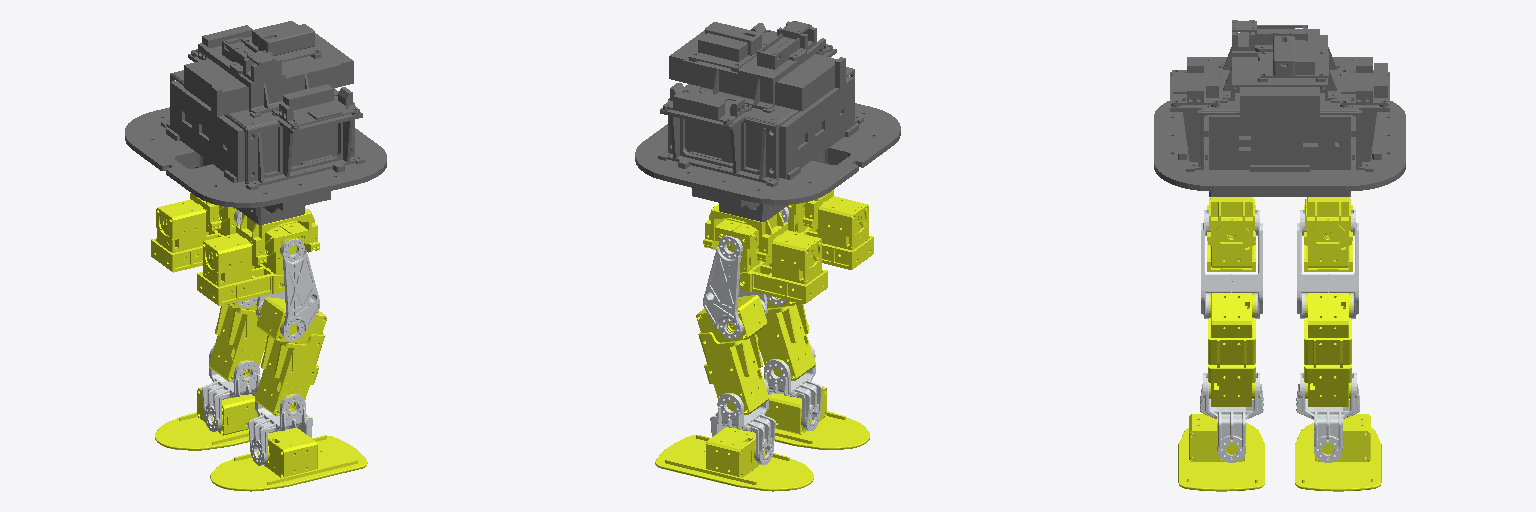
URDF robot description (exhx5_w_b_16):
<?xml version="1.0" encoding="utf-8"?>
<!-- This URDF was automatically created by SolidWorks to URDF Exporter! Originally created by [author] ([email redacted]) 
     Commit Version: 1.5.1-0-g916b5db  Build Version: 1.5.7152.31018
     For more information, please see http://wiki.ros.org/sw_urdf_exporter -->
<robot
  name="exhx5_w_b_16">
  <link
    name="body_link">
    <inertial>
      <origin
        xyz="0.00043545 0.00025536 0.10071"
        rpy="0 0 0" />
      <mass
        value="1.8238" />
      <inertia
        ixx="0.0025905"
        ixy="-5.6852E-06"
        ixz="-1.3106E-05"
        iyy="0.0024595"
        iyz="-1.261E-06"
        izz="0.0046407" />
    </inertial>
    <visual>
      <origin
        xyz="0 0 0"
        rpy="0 0 0" />
      <geometry>
        <mesh
          filename="../meshes/body_link.STL" />
      </geometry>
      <material
        name="">
        <color
          rgba="0.49804 0.49804 0.49804 1" />
      </material>
    </visual>
    <collision>
      <origin
        xyz="0 0 0"
        rpy="0 0 0" />
      <geometry>
        <mesh
          filename="../meshes/body_link.STL" />
      </geometry>
    </collision>
  </link>

  <link
    name="imu_link">
    <inertial>
      <origin
        xyz="-0.008387 1.336E-17 -0.0069463"
        rpy="0 0 0" />
      <mass
        value="0.0062931" />
      <inertia
        ixx="3.2242E-07"
        ixy="3.3527E-22"
        ixz="-6.9193E-08"
        iyy="9.2229E-07"
        iyz="-8.0392E-22"
        izz="1.1018E-06" />
    </inertial>
    <visual>
      <origin
        xyz="0 0 0"
        rpy="0 0 0" />
      <geometry>
        <mesh
          filename="../meshes/imu_link.STL" />
      </geometry>
      <material
        name="">
        <color
          rgba="0.79216 0.81961 0.93333 1" />
      </material>
    </visual>
    <collision>
      <origin
        xyz="0 0 0"
        rpy="0 0 0" />
      <geometry>
        <mesh
          filename="../meshes/imu_link.STL" />
      </geometry>
    </collision>
  </link>
  <joint
    name="imu"
    type="fixed">
    <origin
      xyz="0 0 0.0492"
      rpy="0 0 0" />
    <parent
      link="body_link" />
    <child
      link="imu_link" />
    <axis
      xyz="0 0 0" />
    <limit
      lower="-3.14"
      upper="3.14"
      effort="4"
      velocity="4" />
  </joint>
  <link
    name="l_hip_g_link">
    <inertial>
      <origin
        xyz="-0.0043797 -8.6604E-08 0.011813"
        rpy="0 0 0" />
      <mass
        value="0.061008" />
      <inertia
        ixx="1.167E-05"
        ixy="7.1767E-11"
        ixz="9.1442E-09"
        iyy="2.2342E-05"
        iyz="2.5177E-11"
        izz="2.4892E-05" />
    </inertial>
    <visual>
      <origin
        xyz="0 0 0"
        rpy="0 0 0" />
      <geometry>
        <mesh
          filename="../meshes/l_hip_g_link.STL" />
      </geometry>
      <material
        name="">
        <color
          rgba="0.9451 1 0.18431 1" />
      </material>
    </visual>
    <collision>
      <origin
        xyz="0 0 0"
        rpy="0 0 0" />
      <geometry>
        <mesh
          filename="../meshes/l_hip_g_link.STL" />
      </geometry>
    </collision>
  </link>
  <joint
    name="l_hip_g"
    type="fixed">
    <origin
      xyz="-.003 0.04 0"
      rpy="0 0 0" />
    <parent
      link="body_link" />
    <child
      link="l_hip_g_link" />
    <axis
      xyz="0 0 0" />
  </joint>
  <link
    name="l_hip_roll_link">
    <inertial>
      <origin
        xyz="0.013831 0.00033457 0.025453"
        rpy="0 0 0" />
      <mass
        value="0.2969" />
      <inertia
        ixx="7.8136E-05"
        ixy="7.265E-07"
        ixz="-6.9809E-08"
        iyy="9.2183E-05"
        iyz="-5.6881E-11"
        izz="7.1034E-05" />
    </inertial>
    <visual>
      <origin
        xyz="0 0 0"
        rpy="0 0 0" />
      <geometry>
        <mesh
          filename="../meshes/l_hip_roll_link.STL" />
      </geometry>
      <material
        name="">
        <color
          rgba="0.9451 1 0.18431 1" />
      </material>
    </visual>
    <collision>
      <origin
        xyz="0 0 0"
        rpy="0 0 0" />
      <geometry>
        <mesh
          filename="../meshes/l_hip_roll_link.STL" />
      </geometry>
    </collision>
  </link>
  <joint
    name="l_hip_roll"
    type="revolute">
    <origin
      xyz="0 0 0"
      rpy="3.1416 1.5708 0" />
    <parent
      link="l_hip_g_link" />
    <child
      link="l_hip_roll_link" />
    <axis
      xyz="0 0 1" />
    <limit
      lower="-3.14"
      upper="3.14"
      effort="4"
      velocity="4" />
  </joint>
  <link
    name="l_hip_pitch_link">
    <inertial>
      <origin
        xyz="0.041225 -0.007321 -5.0713E-08"
        rpy="0 0 0" />
      <mass
        value="0.051592" />
      <inertia
        ixx="2.7959E-05"
        ixy="2.0752E-06"
        ixz="-8.0934E-11"
        iyy="4.8156E-05"
        iyz="3.6317E-11"
        izz="2.9604E-05" />
    </inertial>
    <visual>
      <origin
        xyz="0 0 0"
        rpy="0 0 0" />
      <geometry>
        <mesh
          filename="../meshes/l_hip_pitch_link.STL" />
      </geometry>
      <material
        name="">
        <color
          rgba="0.89804 0.91765 0.92941 1" />
      </material>
    </visual>
    <collision>
      <origin
        xyz="0 0 0"
        rpy="0 0 0" />
      <geometry>
        <mesh
          filename="../meshes/l_hip_pitch_link.STL" />
      </geometry>
    </collision>
  </link>
  <joint
    name="l_hip_pitch"
    type="revolute">
    <origin
      xyz="0 0 0"
      rpy="1.5708 0 0" />
    <parent
      link="l_hip_roll_link" />
    <child
      link="l_hip_pitch_link" />
    <axis
      xyz="0 0 1" />
    <limit
      lower="-3.14"
      upper="3.14"
      effort="4"
      velocity="4" />
  </joint>
  <link
    name="l_knee_link">
    <inertial>
      <origin
        xyz="0.033756 -0.0084189 -6.6115E-09"
        rpy="0 0 0" />
      <mass
        value="0.28878" />
      <inertia
        ixx="6.6724E-05"
        ixy="7.5004E-07"
        ixz="-8.4578E-07"
        iyy="6.5699E-05"
        iyz="4.1085E-07"
        izz="7.0381E-05" />
    </inertial>
    <visual>
      <origin
        xyz="0 0 0"
        rpy="0 0 0" />
      <geometry>
        <mesh
          filename="../meshes/l_knee_link.STL" />
      </geometry>
      <material
        name="">
        <color
          rgba="0.9451 1 0.18431 1" />
      </material>
    </visual>
    <collision>
      <origin
        xyz="0 0 0"
        rpy="0 0 0" />
      <geometry>
        <mesh
          filename="../meshes/l_knee_link.STL" />
      </geometry>
    </collision>
  </link>
  <joint
    name="l_knee"
    type="revolute">
    <origin
      xyz="0.075954 0 0"
      rpy="0 0 0" />
    <parent
      link="l_hip_pitch_link" />
    <child
      link="l_knee_link" />
    <axis
      xyz="0 0 1" />
    <limit
      lower="-3.14"
      upper="3.14"
      effort="4"
      velocity="4" />
  </joint>
  <link
    name="l_ank_pitch_link">
    <inertial>
      <origin
        xyz="0.022786 -7.3909E-09 -7.1981E-06"
        rpy="0 0 0" />
      <mass
        value="0.044772" />
      <inertia
        ixx="1.777E-05"
        ixy="8.555E-14"
        ixz="-3.3713E-09"
        iyy="1.7119E-05"
        iyz="1.7593E-11"
        izz="1.8661E-05" />
    </inertial>
    <visual>
      <origin
        xyz="0 0 0"
        rpy="0 0 0" />
      <geometry>
        <mesh
          filename="../meshes/l_ank_pitch_link.STL" />
      </geometry>
      <material
        name="">
        <color
          rgba="0.89804 0.91765 0.92941 1" />
      </material>
    </visual>
    <collision>
      <origin
        xyz="0 0 0"
        rpy="0 0 0" />
      <geometry>
        <mesh
          filename="../meshes/l_ank_pitch_link.STL" />
      </geometry>
    </collision>
  </link>
  <joint
    name="l_ank_pitch"
    type="revolute">
    <origin
      xyz="0.074602 0 0"
      rpy="3.1416 0 0" />
    <parent
      link="l_knee_link" />
    <child
      link="l_ank_pitch_link" />
    <axis
      xyz="0 0 1" />
    <limit
      lower="-3.14"
      upper="3.14"
      effort="4"
      velocity="4" />
  </joint>
  <link
    name="l_ank_roll_link">
    <inertial>
      <origin
        xyz="0.0047069 0.010728 0.0015299"
        rpy="0 0 0" />
      <mass
        value="0.16774" />
      <inertia
        ixx="0.00012039"
        ixy="-3.7428E-09"
        ixz="4.4069E-08"
        iyy="8.7735E-05"
        iyz="7.0469E-07"
        izz="4.7866E-05" />
    </inertial>
    <visual>
      <origin
        xyz="0 0 0"
        rpy="0 0 0" />
      <geometry>
        <mesh
          filename="../meshes/l_ank_roll_link.STL" />
      </geometry>
      <material
        name="">
        <color
          rgba="0.9451 1 0.18431 1" />
      </material>
    </visual>
    <collision>
      <origin
        xyz="0 0 0"
        rpy="0 0 0" />
      <geometry>
        <mesh
          filename="../meshes/l_ank_roll_link.STL" />
      </geometry>
    </collision>
  </link>
  <joint
    name="l_ank_roll"
    type="revolute">
    <origin
      xyz="0.0465 0 0"
      rpy="-1.5708 0 0" />
    <parent
      link="l_ank_pitch_link" />
    <child
      link="l_ank_roll_link" />
    <axis
      xyz="0 0 1" />
    <limit
      lower="-3.14"
      upper="3.14"
      effort="4"
      velocity="4" />
  </joint>
  <link
    name="r_hip_g_link">
    <inertial>
      <origin
        xyz="-0.0043797 -8.6604E-08 0.011813"
        rpy="0 0 0" />
      <mass
        value="0.061008" />
      <inertia
        ixx="1.167E-05"
        ixy="7.1767E-11"
        ixz="9.1442E-09"
        iyy="2.2342E-05"
        iyz="2.5177E-11"
        izz="2.4892E-05" />
    </inertial>
    <visual>
      <origin
        xyz="0 0 0"
        rpy="0 0 0" />
      <geometry>
        <mesh
          filename="../meshes/r_hip_g_link.STL" />
      </geometry>
      <material
        name="">
        <color
          rgba="0.9451 1 0.18431 1" />
      </material>
    </visual>
    <collision>
      <origin
        xyz="0 0 0"
        rpy="0 0 0" />
      <geometry>
        <mesh
          filename="../meshes/r_hip_g_link.STL" />
      </geometry>
    </collision>
  </link>
  <joint
    name="r_hip_g"
    type="fixed">
    <origin
      xyz="-.003 -.04 0"
      rpy="0 0 0" />
    <parent
      link="body_link" />
    <child
      link="r_hip_g_link" />
    <axis
      xyz="0 0 0" />
  </joint>
  <link
    name="r_hip_roll_link">
    <inertial>
      <origin
        xyz="0.013831 0.00033457 0.025453"
        rpy="0 0 0" />
      <mass
        value="0.2969" />
      <inertia
        ixx="7.8136E-05"
        ixy="7.265E-07"
        ixz="-6.9809E-08"
        iyy="9.2183E-05"
        iyz="-5.6881E-11"
        izz="7.1034E-05" />
    </inertial>
    <visual>
      <origin
        xyz="0 0 0"
        rpy="0 0 0" />
      <geometry>
        <mesh
          filename="../meshes/r_hip_roll_link.STL" />
      </geometry>
      <material
        name="">
        <color
          rgba="0.9451 1 0.18431 1" />
      </material>
    </visual>
    <collision>
      <origin
        xyz="0 0 0"
        rpy="0 0 0" />
      <geometry>
        <mesh
          filename="../meshes/r_hip_roll_link.STL" />
      </geometry>
    </collision>
  </link>
  <joint
    name="r_hip_roll"
    type="revolute">
    <origin
      xyz="0 0 0"
      rpy="3.1416 1.5708 0" />
    <parent
      link="r_hip_g_link" />
    <child
      link="r_hip_roll_link" />
    <axis
      xyz="0 0 1" />
    <limit
      lower="-3.14"
      upper="3.14"
      effort="4"
      velocity="4" />
  </joint>
  <link
    name="r_hip_pitch_link">
    <inertial>
      <origin
        xyz="0.041225 0.007321 5.0713E-08"
        rpy="0 0 0" />
      <mass
        value="0.051592" />
      <inertia
        ixx="2.7959E-05"
        ixy="-2.0752E-06"
        ixz="8.0934E-11"
        iyy="4.8156E-05"
        iyz="3.6317E-11"
        izz="2.9604E-05" />
    </inertial>
    <visual>
      <origin
        xyz="0 0 0"
        rpy="0 0 0" />
      <geometry>
        <mesh
          filename="../meshes/r_hip_pitch_link.STL" />
      </geometry>
      <material
        name="">
        <color
          rgba="0.89804 0.91765 0.92941 1" />
      </material>
    </visual>
    <collision>
      <origin
        xyz="0 0 0"
        rpy="0 0 0" />
      <geometry>
        <mesh
          filename="../meshes/r_hip_pitch_link.STL" />
      </geometry>
    </collision>
  </link>
  <joint
    name="r_hip_pitch"
    type="revolute">
    <origin
      xyz="0 0 0"
      rpy="-1.5708 0 0" />
    <parent
      link="r_hip_roll_link" />
    <child
      link="r_hip_pitch_link" />
    <axis
      xyz="0 0 1" />
    <limit
      lower="-3.14"
      upper="3.14"
      effort="4"
      velocity="4" />
  </joint>
  <link
    name="r_knee_link">
    <inertial>
      <origin
        xyz="0.033757 0.0084176 6.6115E-09"
        rpy="0 0 0" />
      <mass
        value="0.28878" />
      <inertia
        ixx="6.6724E-05"
        ixy="-7.5008E-07"
        ixz="8.458E-07"
        iyy="6.5699E-05"
        iyz="4.1081E-07"
        izz="7.0381E-05" />
    </inertial>
    <visual>
      <origin
        xyz="0 0 0"
        rpy="0 0 0" />
      <geometry>
        <mesh
          filename="../meshes/r_knee_link.STL" />
      </geometry>
      <material
        name="">
        <color
          rgba="0.9451 1 0.18431 1" />
      </material>
    </visual>
    <collision>
      <origin
        xyz="0 0 0"
        rpy="0 0 0" />
      <geometry>
        <mesh
          filename="../meshes/r_knee_link.STL" />
      </geometry>
    </collision>
  </link>
  <joint
    name="r_knee"
    type="revolute">
    <origin
      xyz="0.075954 0 0"
      rpy="0 0 0" />
    <parent
      link="r_hip_pitch_link" />
    <child
      link="r_knee_link" />
    <axis
      xyz="0 0 1" />
    <limit
      lower="-3.14"
      upper="3.14"
      effort="4"
      velocity="4" />
  </joint>
  <link
    name="r_ank_pitch_link">
    <inertial>
      <origin
        xyz="0.025786 -7.3887E-09 -7.1981E-06"
        rpy="0 0 0" />
      <mass
        value="0.044772" />
      <inertia
        ixx="1.777E-05"
        ixy="8.5434E-14"
        ixz="-3.3713E-09"
        iyy="1.7119E-05"
        iyz="1.7592E-11"
        izz="1.8661E-05" />
    </inertial>
    <visual>
      <origin
        xyz="0 0 0"
        rpy="0 0 0" />
      <geometry>
        <mesh
          filename="../meshes/r_ank_pitch_link.STL" />
      </geometry>
      <material
        name="">
        <color
          rgba="0.89804 0.91765 0.92941 1" />
      </material>
    </visual>
    <collision>
      <origin
        xyz="0 0 0"
        rpy="0 0 0" />
      <geometry>
        <mesh
          filename="../meshes/r_ank_pitch_link.STL" />
      </geometry>
    </collision>
  </link>
  <joint
    name="r_ank_pitch"
    type="revolute">
    <origin
      xyz="0.071602 0 0"
      rpy="3.1416 0 0" />
    <parent
      link="r_knee_link" />
    <child
      link="r_ank_pitch_link" />
    <axis
      xyz="0 0 1" />
    <limit
      lower="-3.14"
      upper="3.14"
      effort="4"
      velocity="4" />
  </joint>
  <link
    name="r_ank_roll_link">
    <inertial>
      <origin
        xyz="0.0077069 -0.010728 0.0015299"
        rpy="0 0 0" />
      <mass
        value="0.16774" />
      <inertia
        ixx="0.00012039"
        ixy="3.743E-09"
        ixz="4.407E-08"
        iyy="8.7735E-05"
        iyz="-7.0467E-07"
        izz="4.7866E-05" />
    </inertial>
    <visual>
      <origin
        xyz="0 0 0"
        rpy="0 0 0" />
      <geometry>
        <mesh
          filename="../meshes/r_ank_roll_link.STL" />
      </geometry>
      <material
        name="">
        <color
          rgba="0.9451 1 0.18431 1" />
      </material>
    </visual>
    <collision>
      <origin
        xyz="0 0 0"
        rpy="0 0 0" />
      <geometry>
        <mesh
          filename="../meshes/r_ank_roll_link.STL" />
      </geometry>
    </collision>
  </link>
  <joint
    name="r_ank_roll"
    type="revolute">
    <origin
      xyz="0.0465 0 0"
      rpy="1.5708 0 0" />
    <parent
      link="r_ank_pitch_link" />
    <child
      link="r_ank_roll_link" />
    <axis
      xyz="0 0 1" />
    <limit
      lower="-3.14"
      upper="3.14"
      effort="4"
      velocity="4" />
  </joint>
  <transmission name="r_hip_roll_tran">
    <type>transmission_interface/SimpleTransmission</type>
    <joint name="r_hip_roll">
      <hardwareInterface>hardware_interface/EffortJointInterface</hardwareInterface>
    </joint>
    <actuator name="r_hip_roll_motor">
      <hardwareInterface>hardware_interface/EffortJointInterface</hardwareInterface>
      <mechanicalReduction>1</mechanicalReduction>
    </actuator>
  </transmission>
  <transmission name="r_hip_pitch_tran">
    <type>transmission_interface/SimpleTransmission</type>
    <joint name="r_hip_pitch">
      <hardwareInterface>hardware_interface/EffortJointInterface</hardwareInterface>
    </joint>
    <actuator name="r_hip_pitch_motor">
      <hardwareInterface>hardware_interface/EffortJointInterface</hardwareInterface>
      <mechanicalReduction>1</mechanicalReduction>
    </actuator>
  </transmission>
  <transmission name="r_knee_tran">
    <type>transmission_interface/SimpleTransmission</type>
    <joint name="r_knee">
      <hardwareInterface>hardware_interface/EffortJointInterface</hardwareInterface>
    </joint>
    <actuator name="r_knee_motor">
      <hardwareInterface>hardware_interface/EffortJointInterface</hardwareInterface>
      <mechanicalReduction>1</mechanicalReduction>
    </actuator>
  </transmission>
  <transmission name="r_ank_pitch_tran">
    <type>transmission_interface/SimpleTransmission</type>
    <joint name="r_ank_pitch">
      <hardwareInterface>hardware_interface/EffortJointInterface</hardwareInterface>
    </joint>
    <actuator name="r_ank_pitch_motor">
      <hardwareInterface>hardware_interface/EffortJointInterface</hardwareInterface>
      <mechanicalReduction>1</mechanicalReduction>
    </actuator>
  </transmission>
  <transmission name="r_ank_roll_tran">
    <type>transmission_interface/SimpleTransmission</type>
    <joint name="r_ank_roll">
      <hardwareInterface>hardware_interface/EffortJointInterface</hardwareInterface>
    </joint>
    <actuator name="r_ank_roll_motor">
      <hardwareInterface>hardware_interface/EffortJointInterface</hardwareInterface>
      <mechanicalReduction>1</mechanicalReduction>
    </actuator>
  </transmission>
  <transmission name="l_hip_roll_tran">
    <type>transmission_interface/SimpleTransmission</type>
    <joint name="l_hip_roll">
      <hardwareInterface>hardware_interface/EffortJointInterface</hardwareInterface>
    </joint>
    <actuator name="l_hip_roll_motor">
      <hardwareInterface>hardware_interface/EffortJointInterface</hardwareInterface>
      <mechanicalReduction>1</mechanicalReduction>
    </actuator>
  </transmission>
  <transmission name="l_hip_pitch_tran">
    <type>transmission_interface/SimpleTransmission</type>
    <joint name="l_hip_pitch">
      <hardwareInterface>hardware_interface/EffortJointInterface</hardwareInterface>
    </joint>
    <actuator name="l_hip_pitch_motor">
      <hardwareInterface>hardware_interface/EffortJointInterface</hardwareInterface>
      <mechanicalReduction>1</mechanicalReduction>
    </actuator>
  </transmission>
  <transmission name="l_knee_tran">
    <type>transmission_interface/SimpleTransmission</type>
    <joint name="l_knee">
      <hardwareInterface>hardware_interface/EffortJointInterface</hardwareInterface>
    </joint>
    <actuator name="l_knee_motor">
      <hardwareInterface>hardware_interface/EffortJointInterface</hardwareInterface>
      <mechanicalReduction>1</mechanicalReduction>
    </actuator>
  </transmission>
  <transmission name="l_ank_pitch_tran">
    <type>transmission_interface/SimpleTransmission</type>
    <joint name="l_ank_pitch">
      <hardwareInterface>hardware_interface/EffortJointInterface</hardwareInterface>
    </joint>
    <actuator name="l_ank_pitch_motor">
      <hardwareInterface>hardware_interface/EffortJointInterface</hardwareInterface>
      <mechanicalReduction>1</mechanicalReduction>
    </actuator>
  </transmission>
  <transmission name="l_ank_roll_tran">
    <type>transmission_interface/SimpleTransmission</type>
    <joint name="l_ank_roll">
      <hardwareInterface>hardware_interface/EffortJointInterface</hardwareInterface>
    </joint>
    <actuator name="l_ank_roll_motor">
      <hardwareInterface>hardware_interface/EffortJointInterface</hardwareInterface>
      <mechanicalReduction>1</mechanicalReduction>
    </actuator>
  </transmission>
</robot>

--- Render facts (derived) ---
The picture shows the robot from 3 angles, left to right: view 1: azimuth 30°, elevation 25°; view 2: azimuth 150°, elevation 25°; view 3: azimuth 270°, elevation 25°; orthographic projection.
Model exhx5_w_b_16 with 14 links and 13 joints (10 revolute, 3 fixed), rooted at body_link, posed all joints at 0.
Visible links, largest first — view 1: body_link, r_ank_roll_link, r_hip_roll_link, r_knee_link, l_hip_roll_link, l_ank_roll_link, l_knee_link, r_hip_pitch_link, r_ank_pitch_link, l_ank_pitch_link, r_hip_g_link; view 2: body_link, l_ank_roll_link, l_hip_roll_link, l_knee_link, r_hip_roll_link, r_ank_roll_link, r_knee_link, l_hip_pitch_link, l_ank_pitch_link, r_ank_pitch_link, l_hip_g_link; view 3: body_link, l_knee_link, r_knee_link, r_ank_roll_link, l_ank_roll_link, l_ank_pitch_link, r_ank_pitch_link, l_hip_pitch_link, r_hip_pitch_link, l_hip_g_link, r_hip_g_link, l_hip_roll_link (+1 smaller).
Boxes of the visible links, <box> form: body_link: <box>125,21,386,224</box>; r_ank_roll_link: <box>210,427,367,491</box>; r_hip_roll_link: <box>197,221,308,305</box>; r_knee_link: <box>255,297,326,415</box>; l_hip_roll_link: <box>151,199,236,272</box>; l_ank_roll_link: <box>155,387,308,450</box>; l_knee_link: <box>209,299,267,382</box>; r_hip_pitch_link: <box>256,238,319,341</box>; r_ank_pitch_link: <box>248,379,312,465</box>; l_ank_pitch_link: <box>202,345,259,431</box>; r_hip_g_link: <box>236,208,319,265</box>; body_link: <box>635,21,900,221</box>; l_ank_roll_link: <box>655,427,813,491</box>; l_hip_roll_link: <box>715,218,827,303</box>; l_knee_link: <box>696,295,768,414</box>; r_hip_roll_link: <box>787,196,873,269</box>; r_ank_roll_link: <box>715,386,869,449</box>; r_knee_link: <box>756,297,815,380</box>; l_hip_pitch_link: <box>703,235,767,339</box>; l_ank_pitch_link: <box>710,378,775,464</box>; r_ank_pitch_link: <box>764,344,822,430</box>; l_hip_g_link: <box>703,204,787,263</box>; body_link: <box>1154,20,1405,196</box>; l_knee_link: <box>1304,293,1351,406</box>; r_knee_link: <box>1208,293,1255,406</box>; r_ank_roll_link: <box>1178,414,1264,491</box>; l_ank_roll_link: <box>1295,414,1381,491</box>; l_ank_pitch_link: <box>1296,373,1359,462</box>; r_ank_pitch_link: <box>1200,373,1263,462</box>; l_hip_pitch_link: <box>1297,210,1358,318</box>; r_hip_pitch_link: <box>1201,210,1262,318</box>; l_hip_g_link: <box>1304,197,1352,246</box>; r_hip_g_link: <box>1207,197,1255,246</box>; l_hip_roll_link: <box>1304,198,1352,271</box>.
Size in the robot's own frame: 0.185 by 0.21 by 0.3893 metres.
Meshes: 14 distinct files referenced, 14 mesh visuals loaded (14 binary STL).